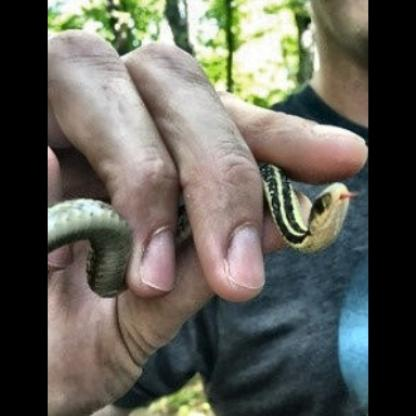Snake: (250, 151, 354, 258), (46, 193, 135, 296)
